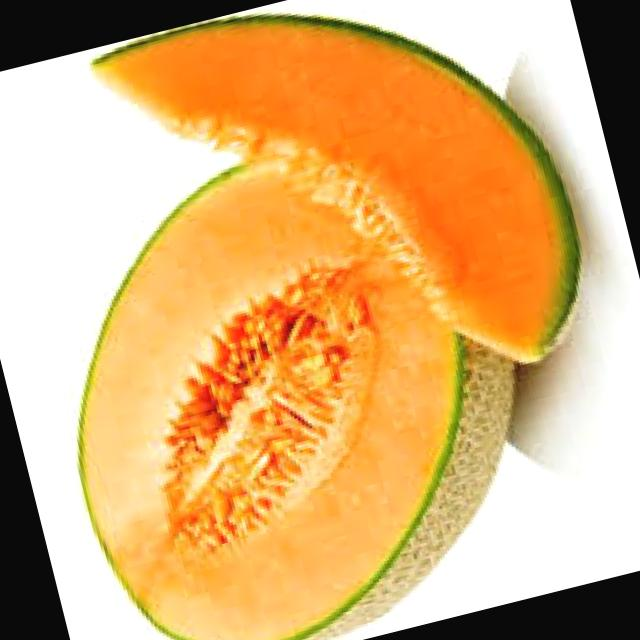cantaloupe: (13, 110, 567, 640), (84, 0, 609, 450)
